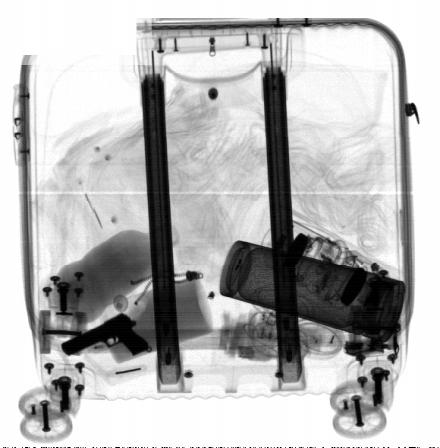Gun: (61, 311, 151, 357)
